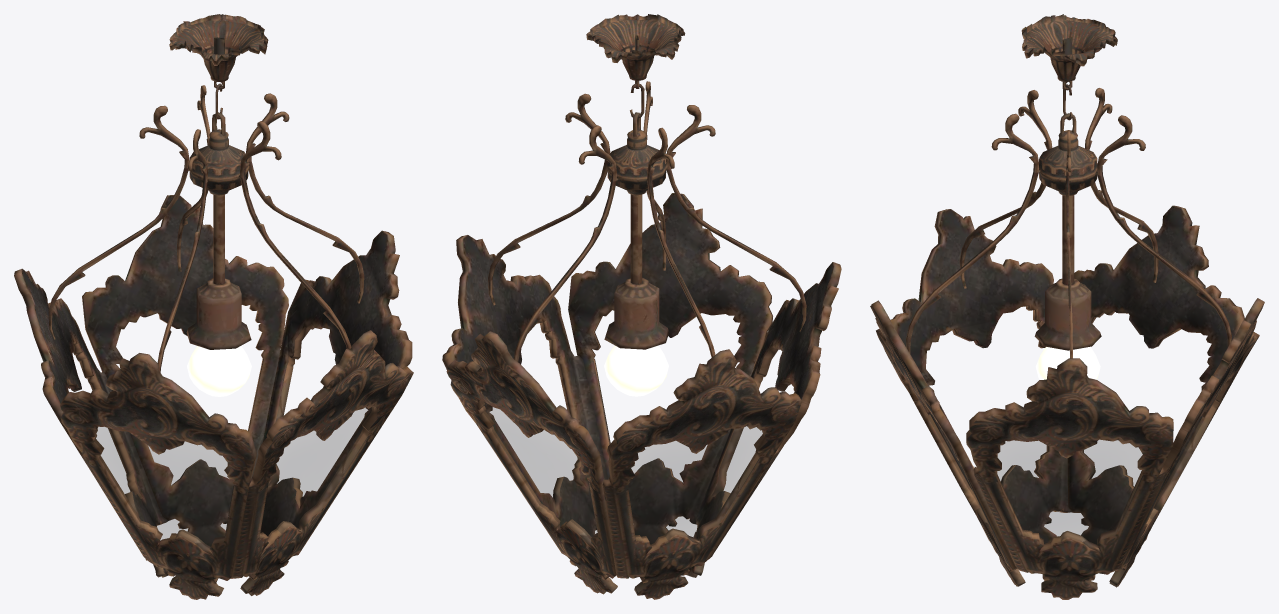
Rendered from lantern_chandelier_01.glb.
3 renders of one model, left to right at view 1: azimuth 30°, elevation 25°; view 2: azimuth 150°, elevation 25°; view 3: azimuth 270°, elevation 25°, orthographic.
Visible parts, largest first — view 1: lantern_chandelier_01; view 2: lantern_chandelier_01; view 3: lantern_chandelier_01.
Boxes of the visible parts, box(x1,y1,x2,y2) form: lantern_chandelier_01: box(14, 14, 413, 599); lantern_chandelier_01: box(442, 14, 841, 599); lantern_chandelier_01: box(870, 14, 1264, 599).
Bounding box in the file's own units: 0.5792 × 0.8776 × 0.5746.
3 materials, 2 textured.
